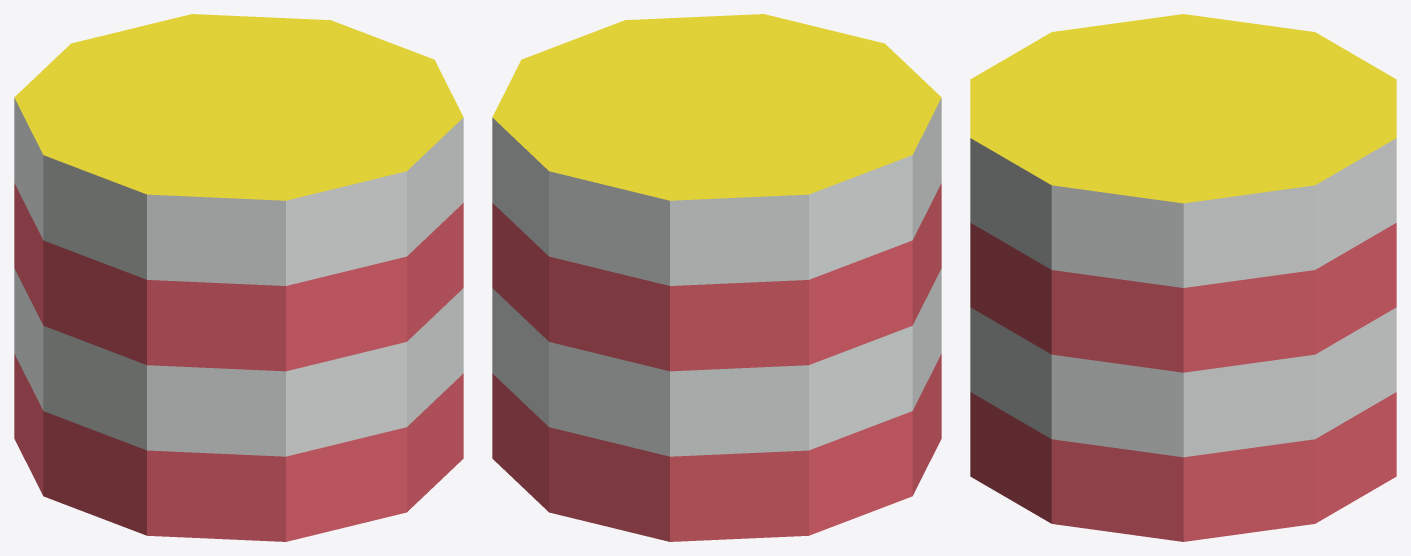
File: post.glb
3 views of the same model, side by side, from view 1: azimuth 30°, elevation 25°; view 2: azimuth 150°, elevation 25°; view 3: azimuth 270°, elevation 25° (orthographic).
Visible parts, largest first — view 1: Post; view 2: Post; view 3: Post.
Part boxes in pixels (<box>): Post: <box>14,14,463,541</box>; Post: <box>492,14,941,541</box>; Post: <box>970,14,1396,541</box>.
Size of the model in its own units: 0.6 by 0.5 by 0.5706.
